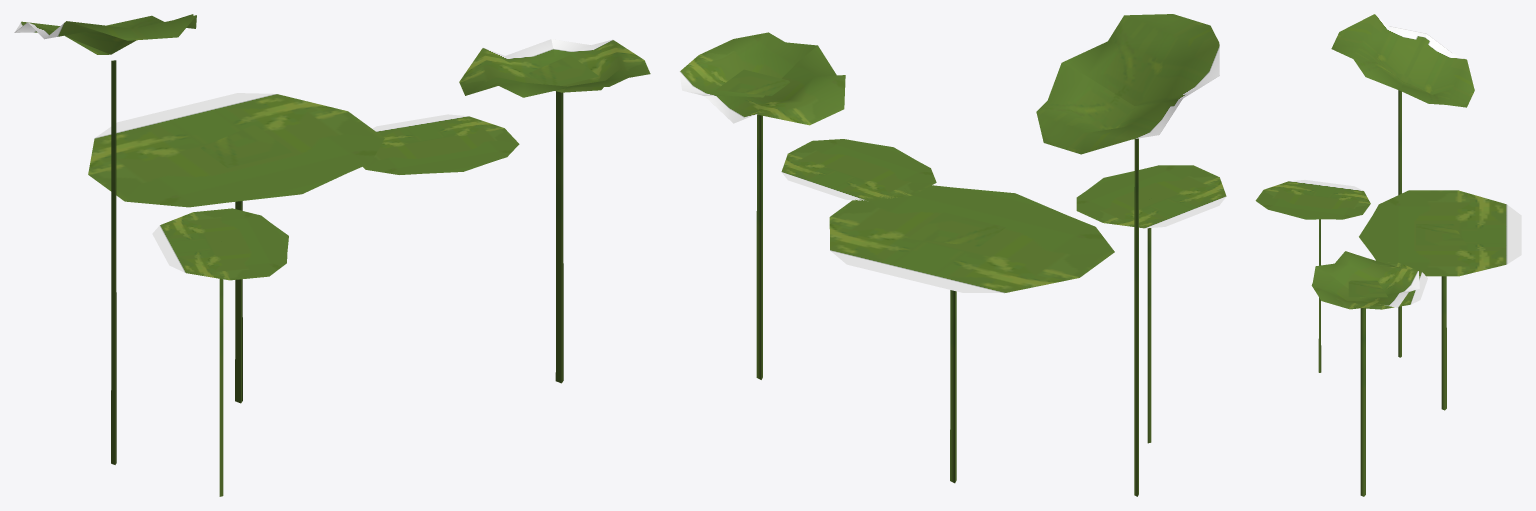
Rendered from City_bujian_53.fbx.
3 renders of one model, left to right at view 1: azimuth 30°, elevation 25°; view 2: azimuth 150°, elevation 25°; view 3: azimuth 270°, elevation 25°, orthographic. The views are drawn at different scales.
Visible parts, largest first — view 1: group10_polySurface2485; view 2: group10_polySurface2485; view 3: group10_polySurface2485.
Part boxes in pixels (x1,y1,x2,y2): group10_polySurface2485: (14, 14, 650, 496); group10_polySurface2485: (679, 14, 1226, 496); group10_polySurface2485: (1255, 14, 1521, 496).
Size of the model in its own units: 17.13 by 13.57 by 10.19.
